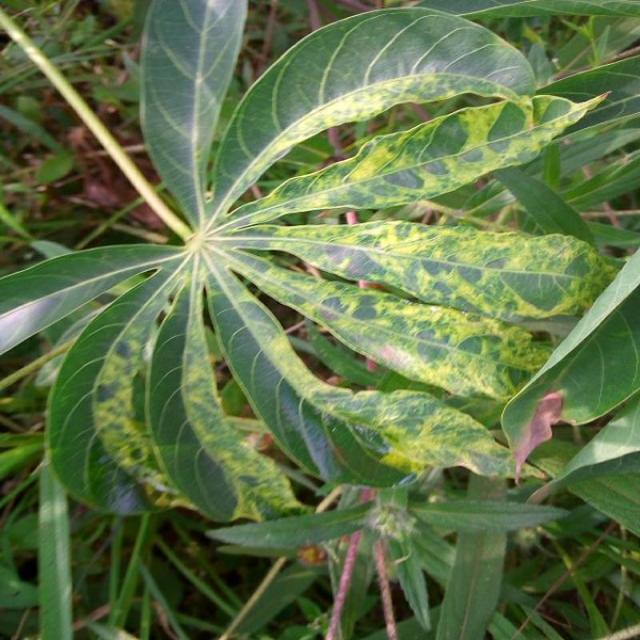cassava leaf: (2, 1, 636, 536), (208, 4, 537, 219)
